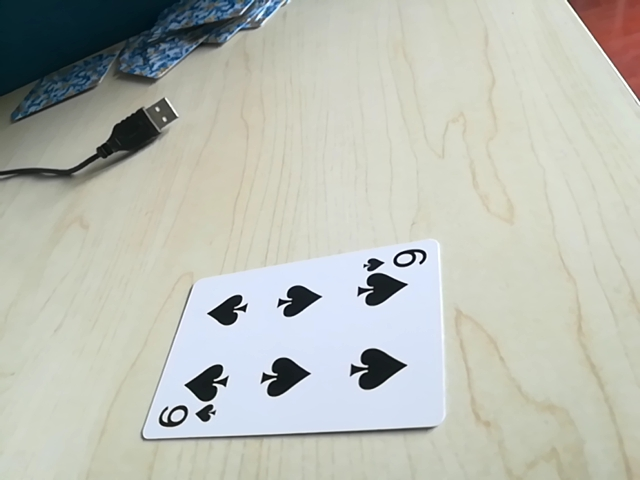ht 6: (148, 400, 220, 434), (361, 245, 431, 275)
